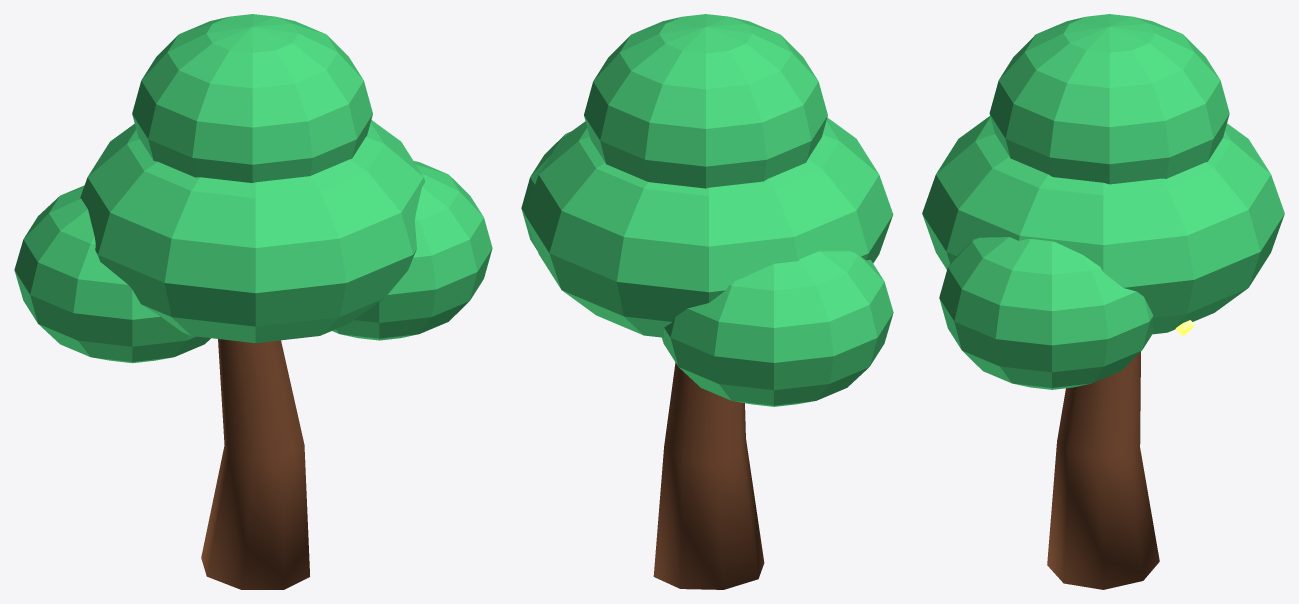
The model's file is prop_sky_tree.glb.
The picture shows the model from 3 angles, left to right: view 1: azimuth 30°, elevation 25°; view 2: azimuth 150°, elevation 25°; view 3: azimuth 270°, elevation 25°; orthographic projection.
Parts seen in each view (by area): view 1: Canopy_0, Canopy_3, TreeTrunk, Canopy_1, Canopy_2; view 2: Canopy_0, Canopy_3, Canopy_1, TreeTrunk, Canopy_2; view 3: Canopy_0, Canopy_3, Canopy_2, TreeTrunk.
Part boxes in pixels (x1,y1,x2,y2): Canopy_0: [80, 120, 425, 343]; Canopy_3: [132, 14, 372, 182]; TreeTrunk: [201, 339, 309, 589]; Canopy_1: [14, 185, 210, 363]; Canopy_2: [332, 161, 492, 340]; Canopy_0: [524, 117, 893, 337]; Canopy_3: [584, 14, 827, 188]; Canopy_1: [662, 251, 893, 406]; TreeTrunk: [653, 362, 764, 589]; Canopy_2: [521, 131, 571, 250]; Canopy_0: [922, 116, 1284, 334]; Canopy_3: [989, 14, 1229, 184]; Canopy_2: [939, 237, 1153, 389]; TreeTrunk: [1047, 352, 1159, 589].
Bounding box in the file's own units: 3.68 × 4.86 × 2.96.
